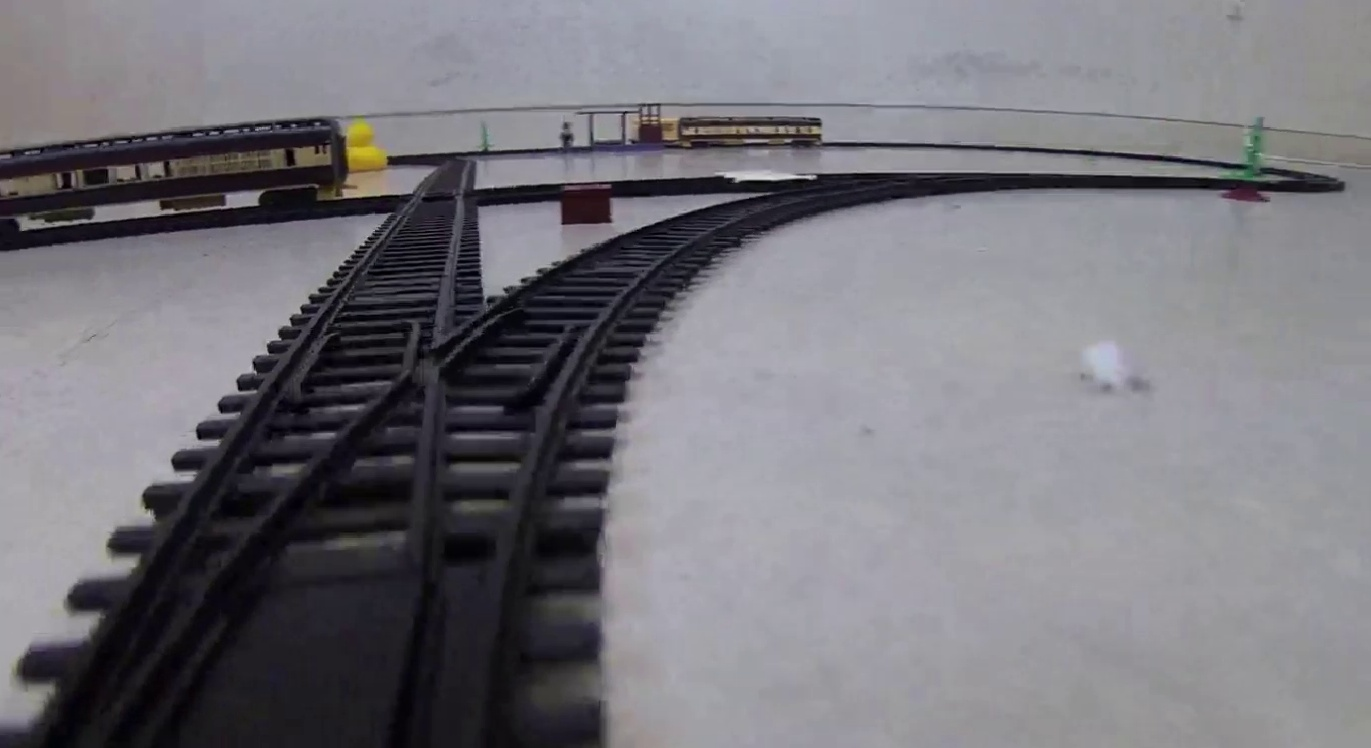box: (562, 185, 617, 226)
